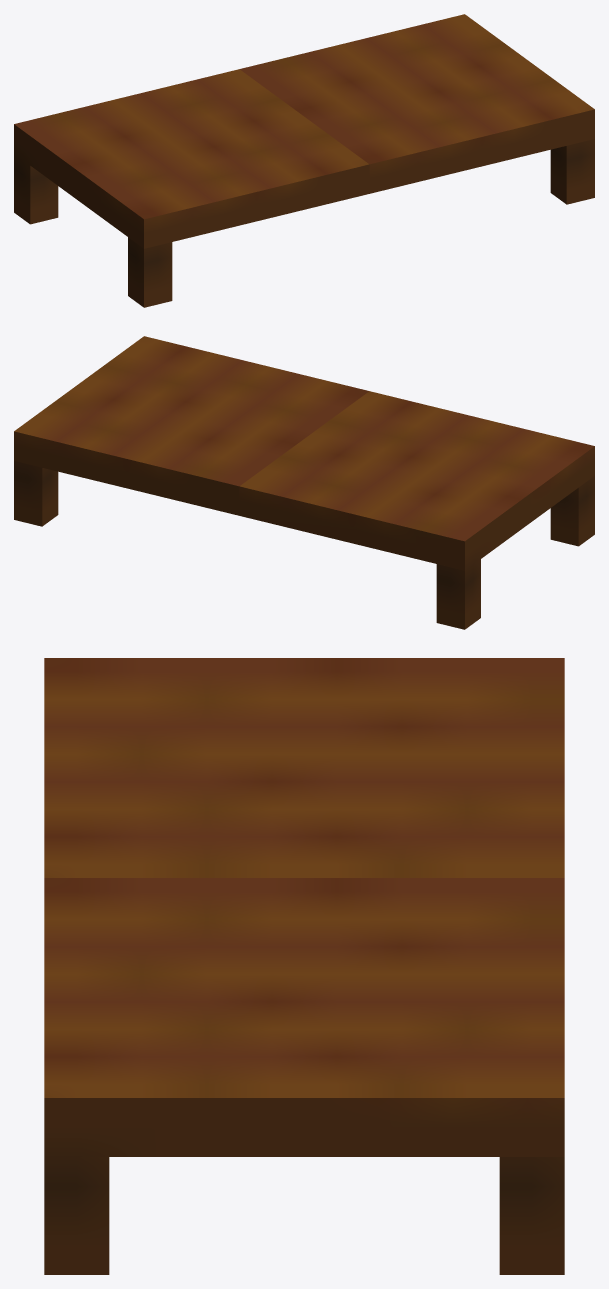
The model's file is table_thin.obj.
3 renders of one model, top to bottom at view 1: azimuth 30°, elevation 25°; view 2: azimuth 150°, elevation 25°; view 3: azimuth 270°, elevation 25°, orthographic. The views are drawn at different scales.
Visible parts, largest first — view 1: Default; view 2: Default; view 3: Default.
Boxes of the visible parts, x1,y1,x2,y2 form: Default: (14, 14, 594, 307); Default: (14, 336, 594, 629); Default: (44, 658, 564, 1274).
Bounding box in the file's own units: 2 × 0.375 × 1.
